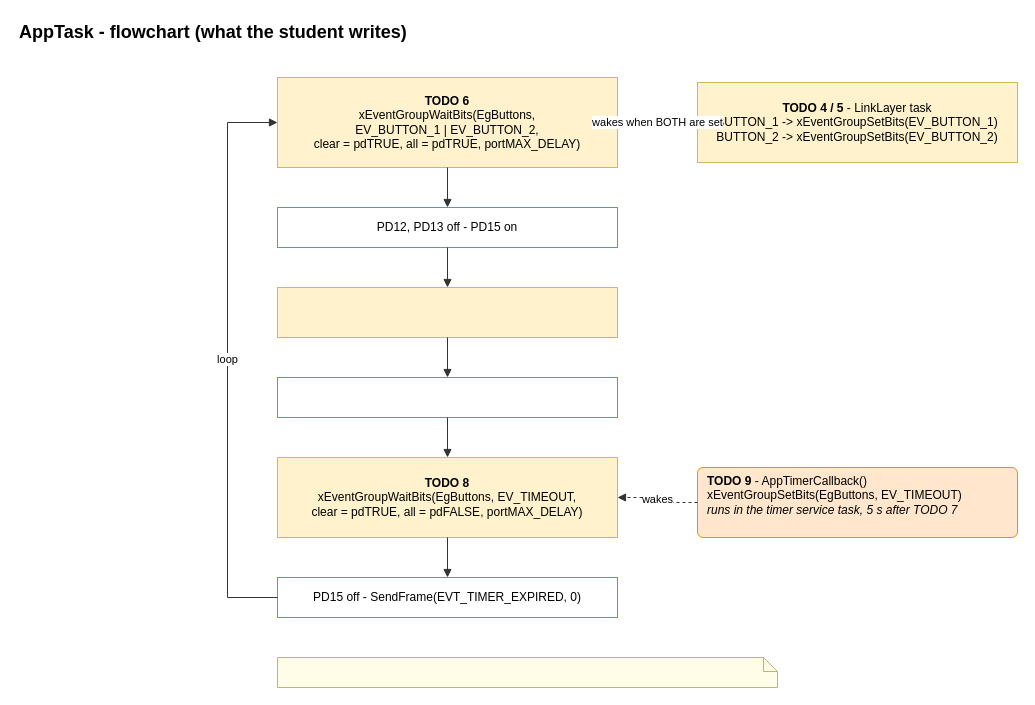
Some shapes in this 1035 by 705 pixel diagram are drawn without their labels. Each missing label, with the centre of its shape:
"SendFrame(EVT_TIMER_STARTED, 5)" belongs at (447,397).
"TODO 7 xTimerStart(tApp, 0)" belongs at (447,312).
"Yellow = code written by the student (TODO number in apk7_student.c)" belongs at (527,672).
